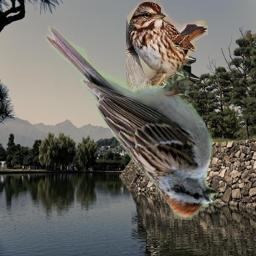Sparrow: (44, 25, 220, 220), (126, 0, 208, 106)
